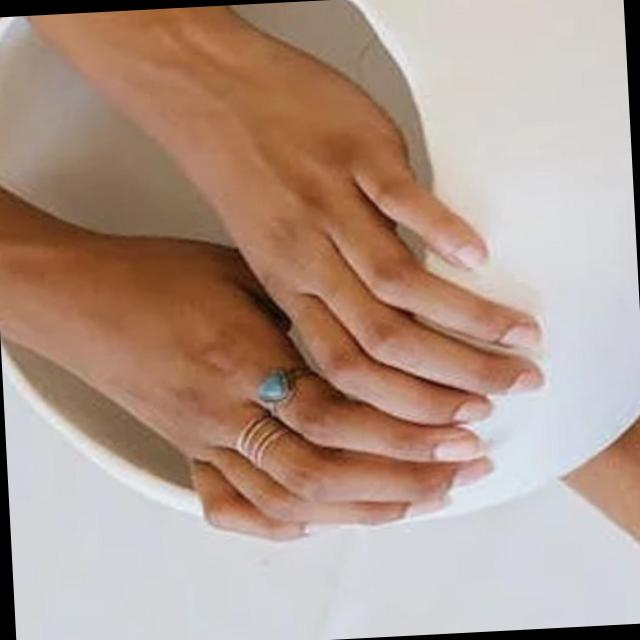Nail: (433, 436, 486, 461), (451, 457, 491, 487), (406, 492, 448, 515), (452, 398, 491, 422), (500, 323, 540, 346), (453, 243, 486, 267), (509, 369, 544, 391), (303, 519, 347, 536)
